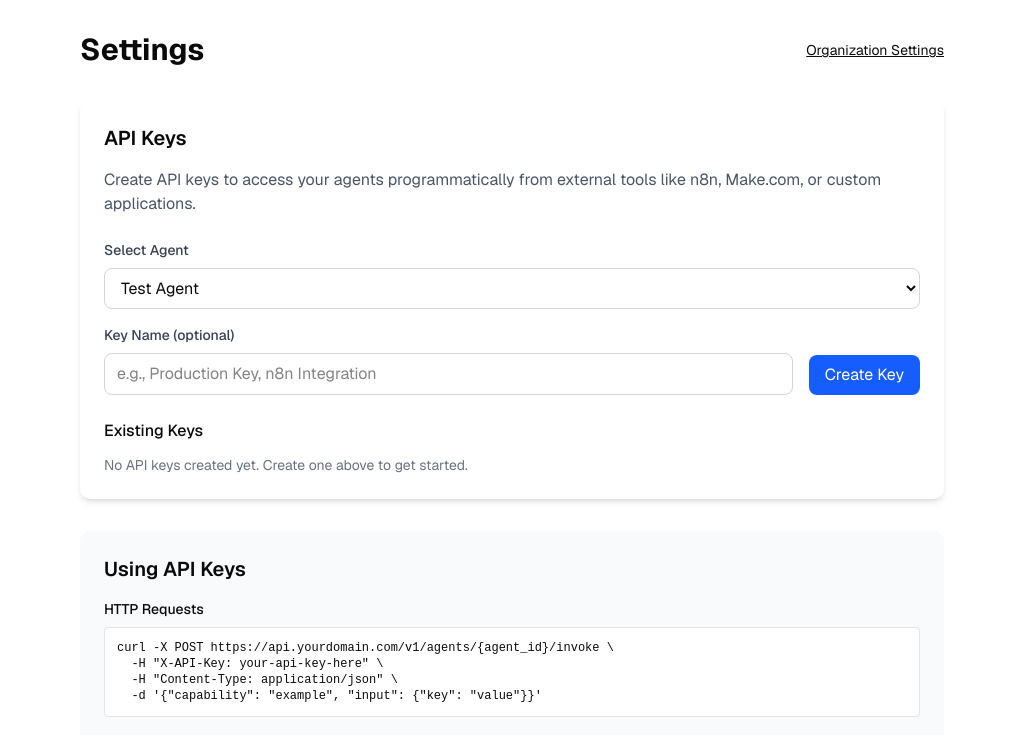
Scenario: SettingsPage › creates API key when form is submitted
Fill in key name
In the field with placeholder "e.g., Production Key, n8n Integration": (448, 374) x1=104 y1=353 x2=793 y2=395, type "Test Key"
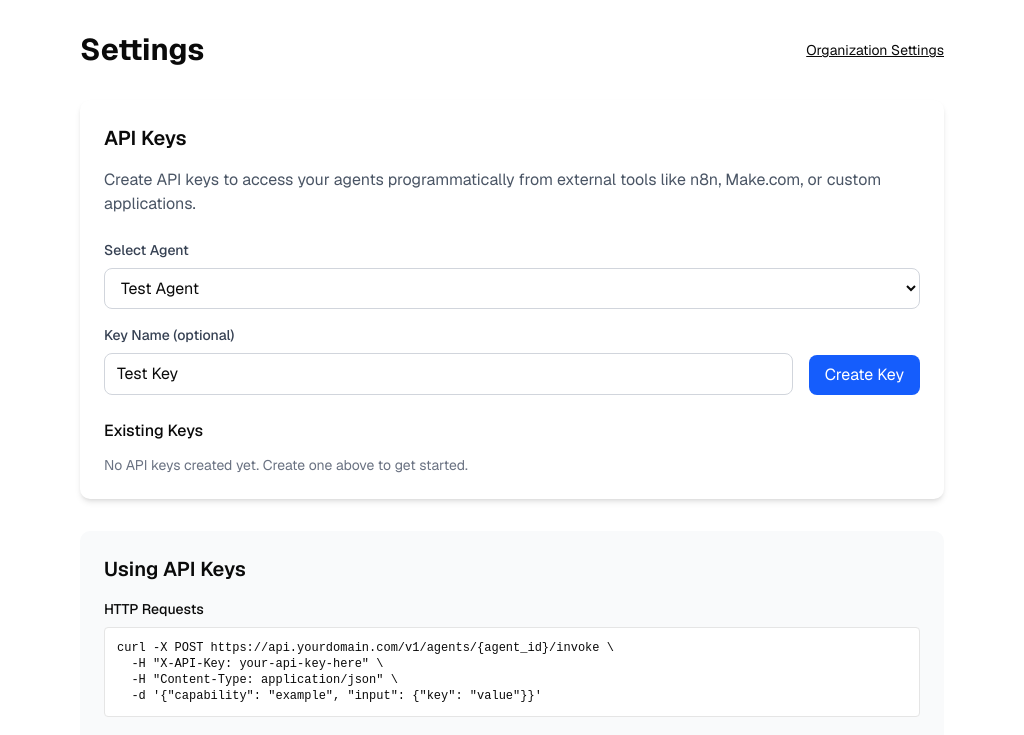
Click create button
Click the button with test id "create-key-button": click(864, 375) x1=809 y1=355 x2=920 y2=395
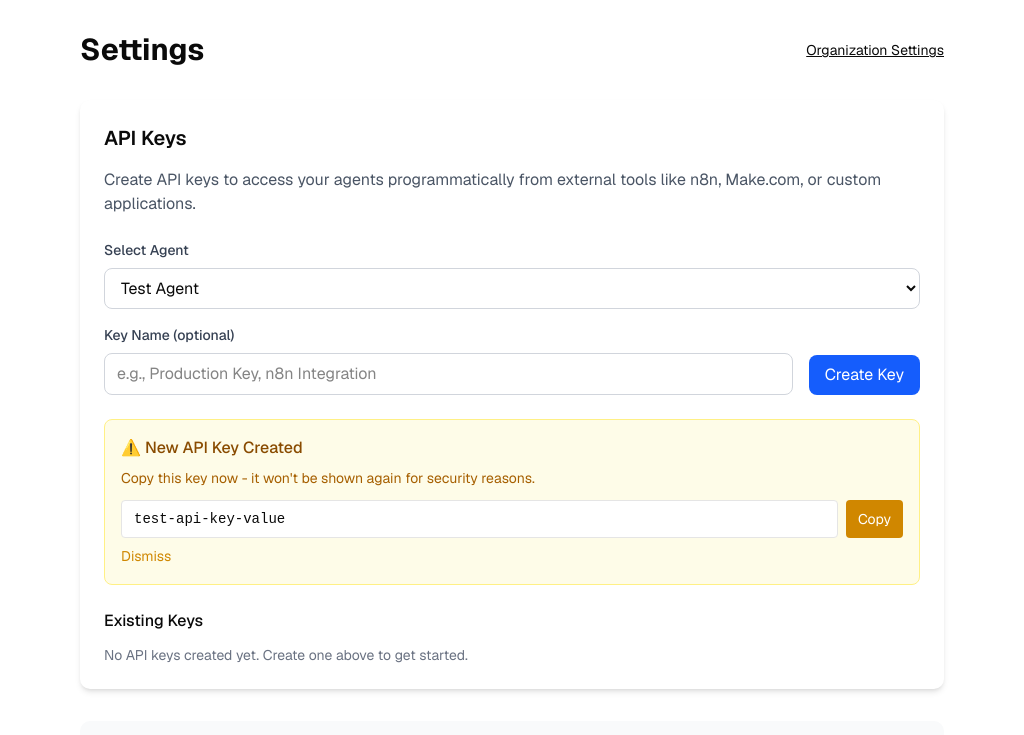
Expected: the element with test id "api-key-created-banner" is shown, x1=104 y1=419 x2=920 y2=585
Expected: the text with test id "api-key-value" reads "test-api-key-value", x1=134 y1=511 x2=285 y2=527
